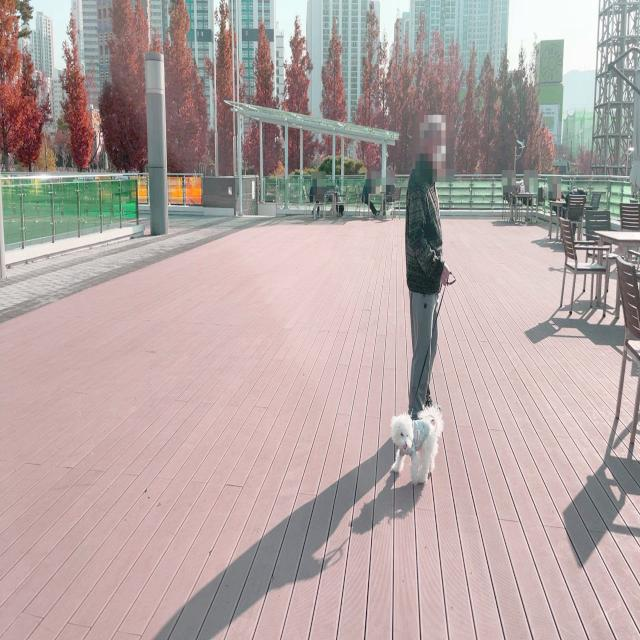Leashed_Dog: (390, 262, 458, 488)
